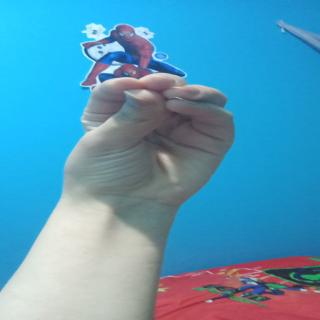HA: (61, 66, 252, 209)
